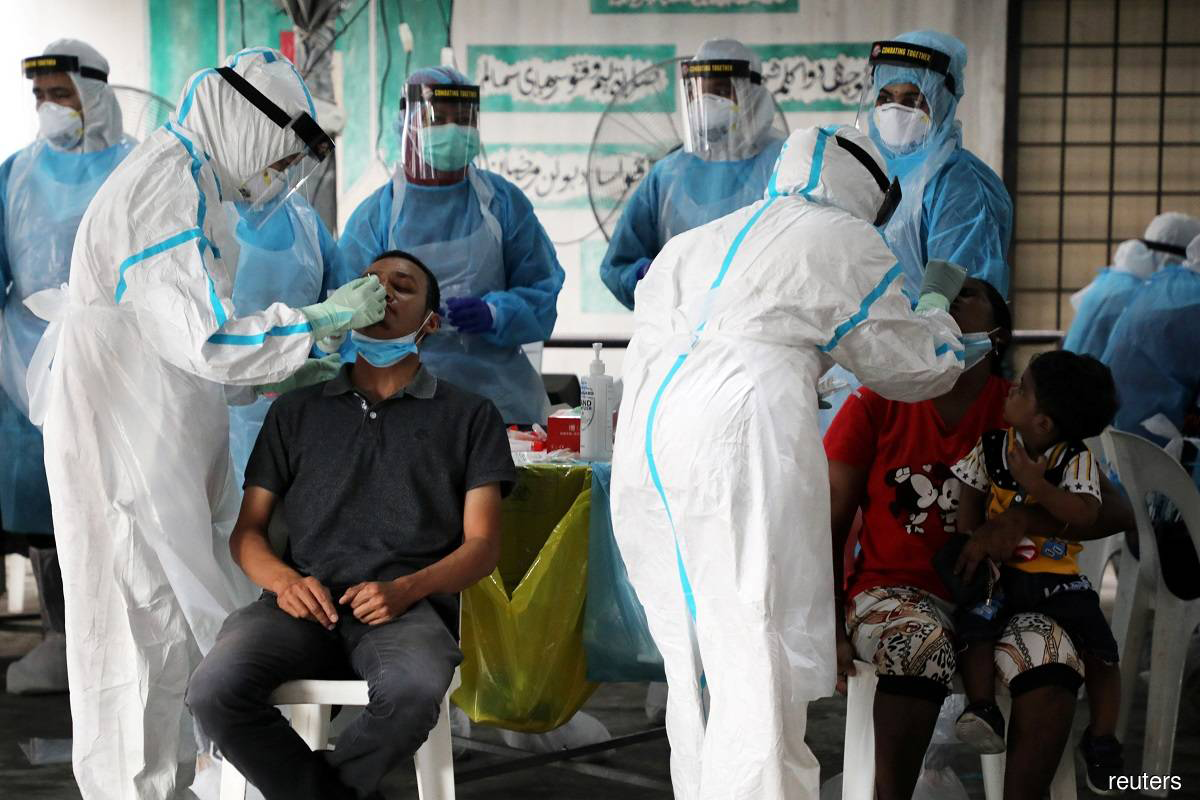Coverall: (40, 47, 319, 800)
Gloves: (610, 116, 943, 800), (292, 265, 381, 337), (446, 292, 502, 336)
with_mask: (411, 104, 480, 177), (871, 91, 936, 154), (684, 83, 743, 144), (27, 90, 87, 146)
